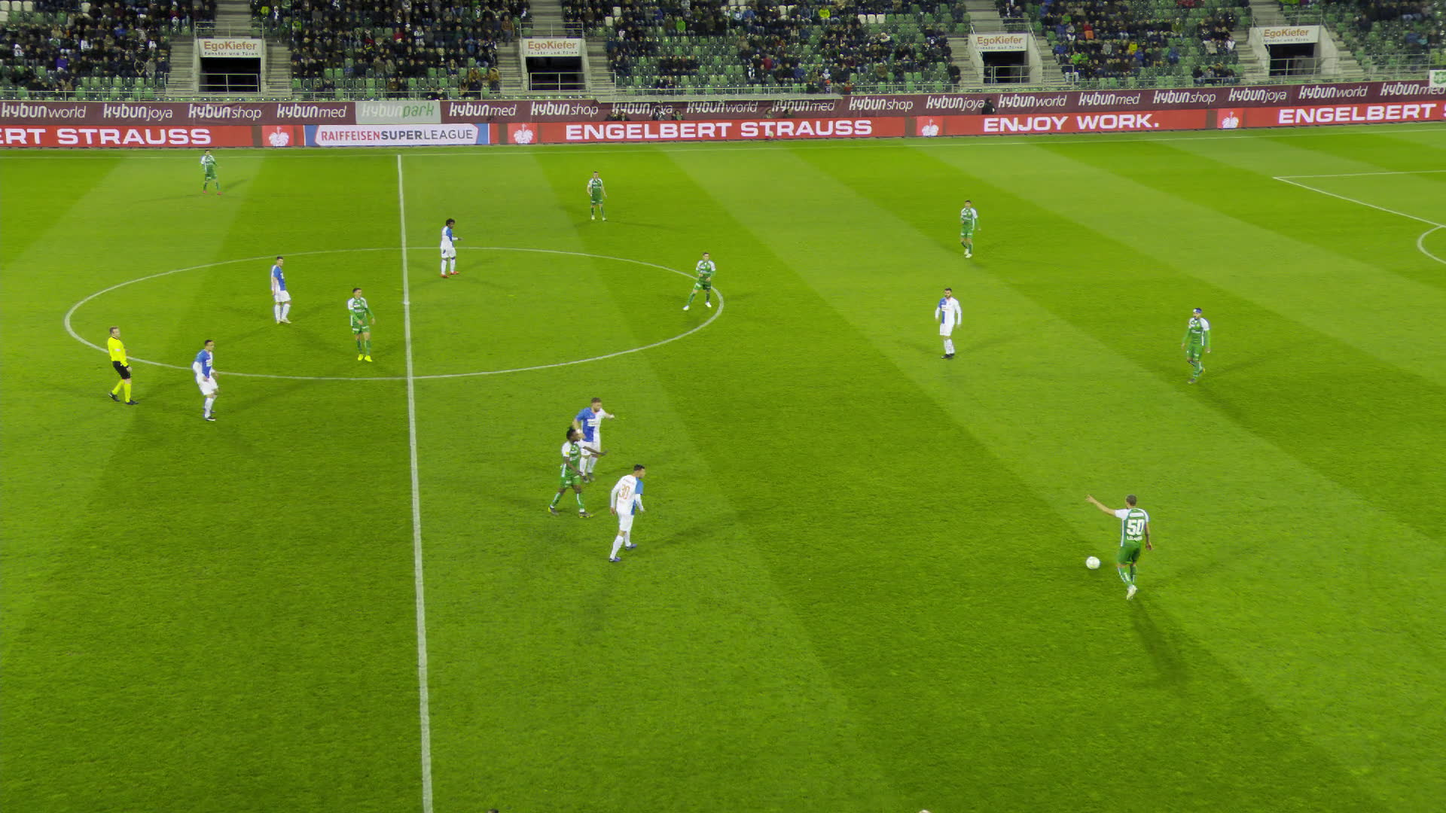ball: (1088, 558, 1100, 570)
player: (1084, 492, 1149, 600), (557, 422, 612, 516), (607, 463, 645, 562), (575, 400, 619, 477), (193, 339, 226, 420), (933, 287, 968, 360), (1180, 306, 1212, 383), (348, 287, 377, 362), (689, 248, 718, 310), (270, 255, 292, 324), (959, 199, 980, 258), (441, 217, 459, 277), (200, 148, 221, 195), (587, 169, 606, 220)
referee: (104, 326, 139, 404)
